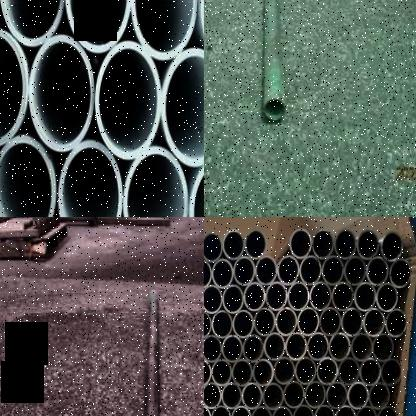pipe: (95, 41, 161, 160), (29, 35, 94, 152), (162, 47, 204, 166), (58, 140, 122, 217), (0, 134, 56, 217), (122, 148, 188, 217), (0, 26, 28, 147), (334, 228, 357, 260), (380, 230, 403, 262), (321, 254, 344, 286), (366, 255, 389, 287), (309, 280, 332, 312), (318, 306, 341, 337), (356, 229, 379, 260), (233, 255, 256, 286), (222, 229, 244, 261), (255, 254, 277, 286), (344, 254, 366, 286), (212, 257, 234, 289), (288, 280, 310, 312), (277, 255, 300, 285), (299, 255, 322, 285), (298, 306, 320, 337), (276, 306, 298, 337), (363, 307, 385, 338), (385, 307, 407, 338), (290, 228, 312, 259), (389, 257, 411, 288), (332, 281, 354, 312), (354, 281, 376, 312), (244, 281, 266, 312), (376, 282, 398, 313), (254, 307, 276, 337), (341, 307, 363, 337), (264, 332, 286, 362), (329, 332, 351, 362), (350, 332, 372, 362), (221, 334, 243, 364), (294, 356, 316, 386), (273, 356, 295, 386), (316, 356, 338, 386), (380, 357, 402, 387), (304, 380, 326, 410), (368, 381, 390, 411), (312, 229, 334, 259), (244, 229, 266, 259), (266, 281, 288, 311), (233, 308, 254, 339), (286, 332, 308, 361), (307, 332, 329, 361), (242, 334, 264, 363), (338, 357, 360, 386), (252, 358, 274, 387), (283, 381, 305, 410), (326, 381, 348, 410), (262, 382, 284, 411), (222, 284, 244, 313), (372, 333, 393, 363), (211, 358, 232, 387), (232, 358, 253, 387), (242, 382, 263, 411), (212, 309, 232, 339), (360, 357, 380, 387), (348, 381, 368, 411), (204, 231, 223, 262), (221, 382, 242, 410), (204, 284, 222, 314), (204, 334, 222, 363), (264, 98, 285, 122), (204, 382, 221, 409), (313, 404, 335, 416), (204, 257, 212, 289), (293, 404, 314, 416), (210, 404, 231, 416), (376, 405, 398, 416), (335, 405, 356, 416), (231, 405, 252, 416), (204, 310, 212, 338), (356, 405, 376, 416), (252, 405, 272, 416), (272, 405, 292, 416), (204, 358, 211, 386)
